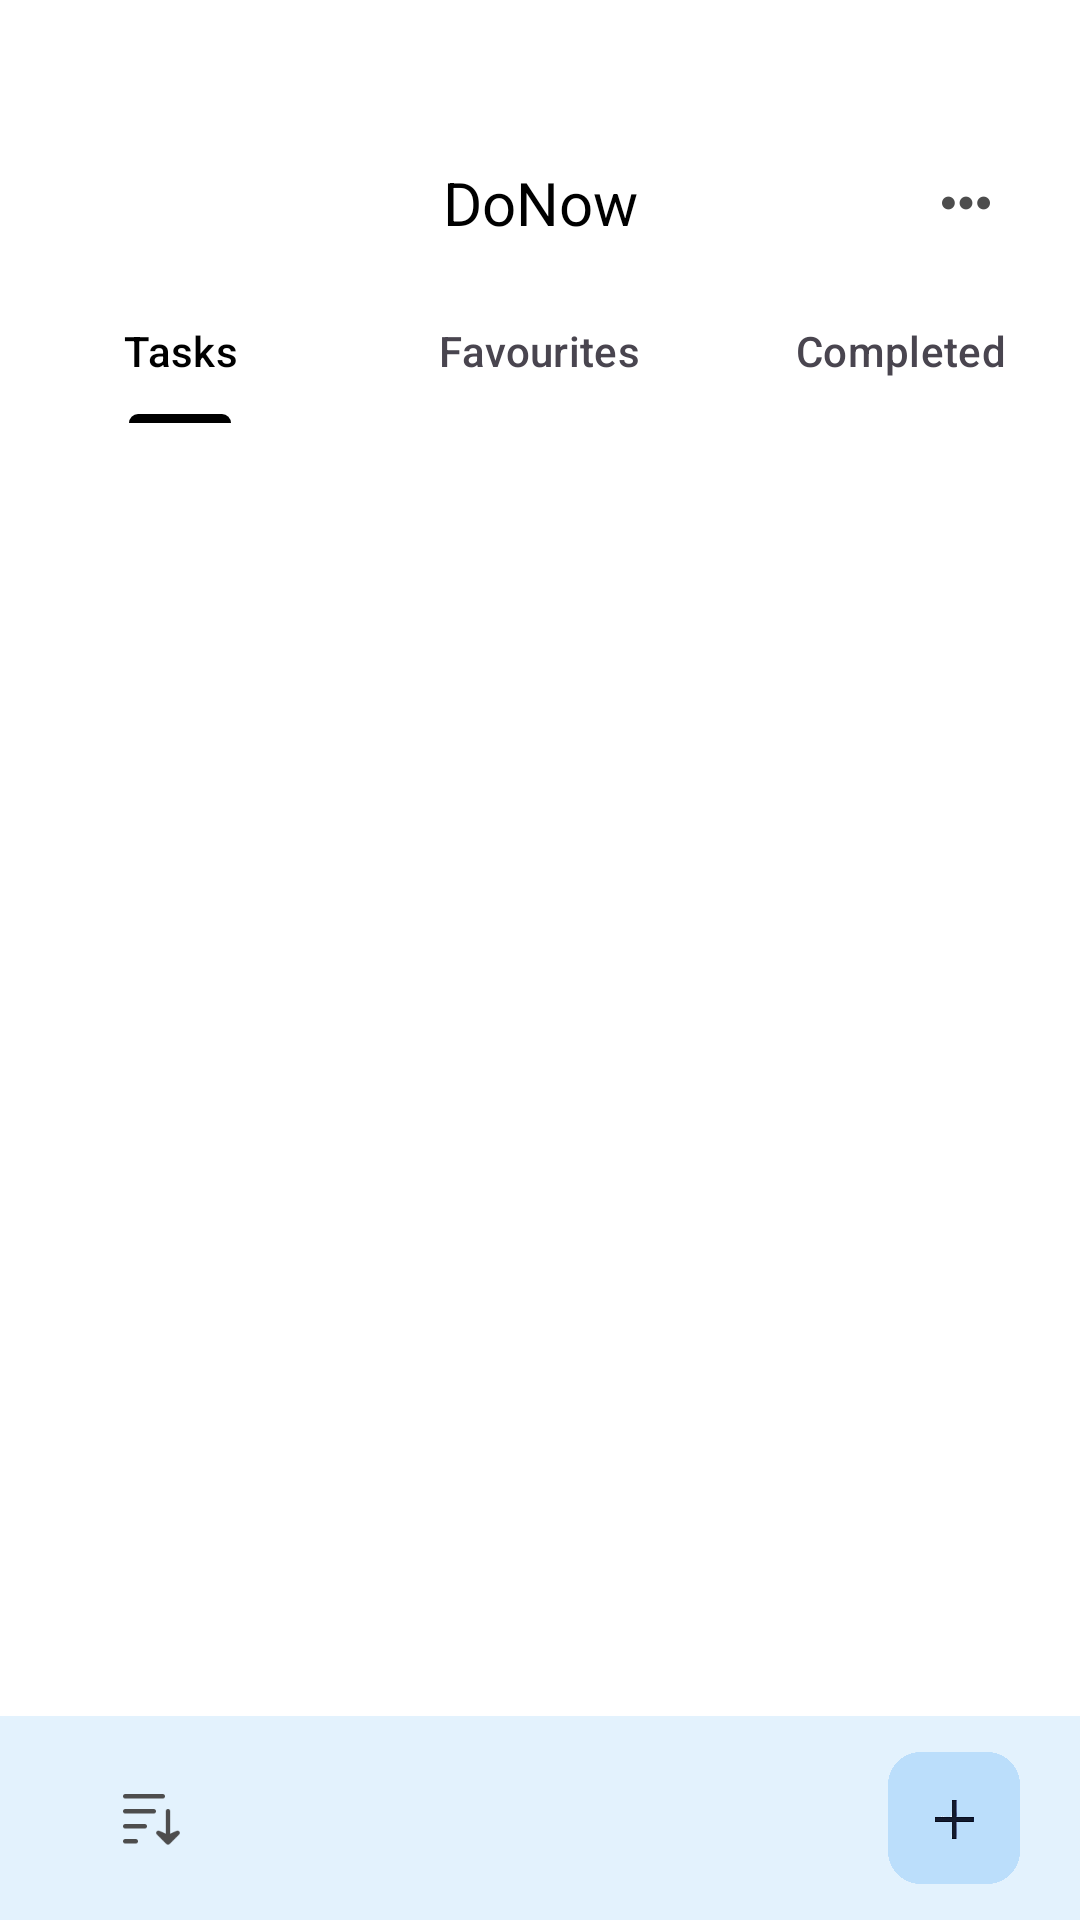

Icon bounding boxes for this 1080*1920 phone screenshot, format (x1, y1, x2, y2):
add: (888, 1752, 1020, 1884)
options: (942, 196, 990, 210)
Sort: (123, 1794, 180, 1845)
